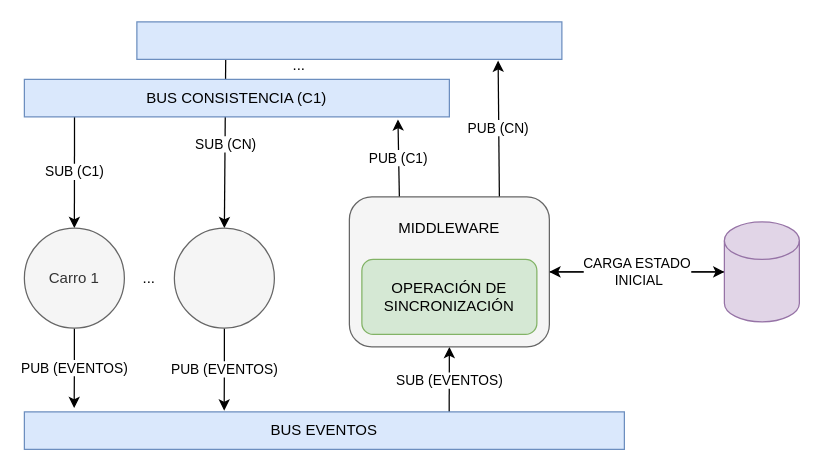
The diagram is 821 pixels wide and 471 high, and some of its shapes have lost their labels. The box of each missing label's shape, as (x1, y1, x2, y2) in pixels:
BUS CONSISTENCIA (CN): (136, 21, 562, 59)
Carro N: (173, 227, 274, 328)
MONGO DB: (723, 221, 799, 322)
